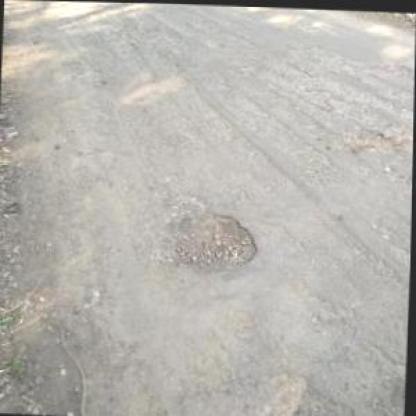pothole: (162, 207, 262, 273), (355, 124, 398, 152)
